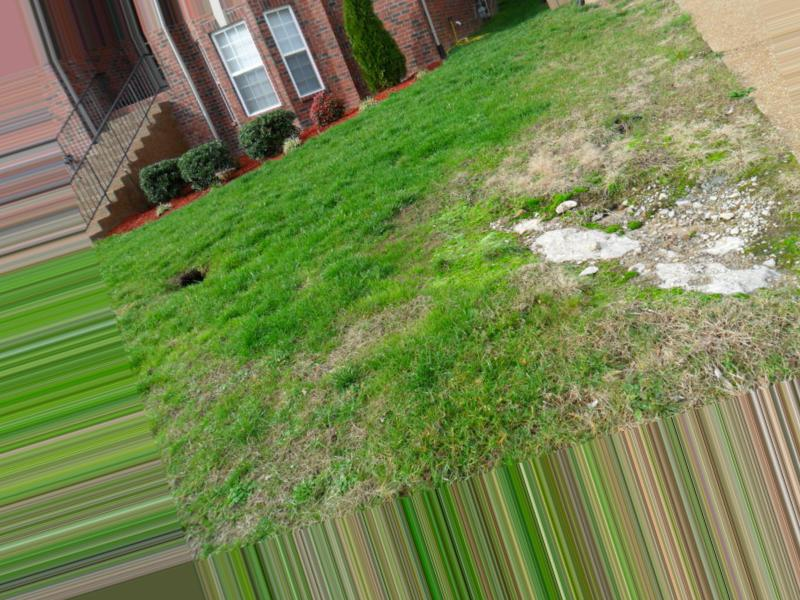patch: (554, 193, 730, 293), (140, 324, 266, 413), (351, 254, 441, 355), (578, 64, 692, 139), (273, 453, 362, 508), (448, 134, 545, 178)
